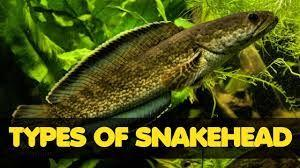Snakehead: (12, 9, 279, 118)
